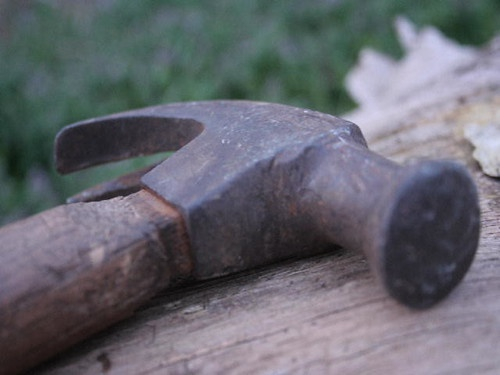hammer: (1, 98, 485, 348)
